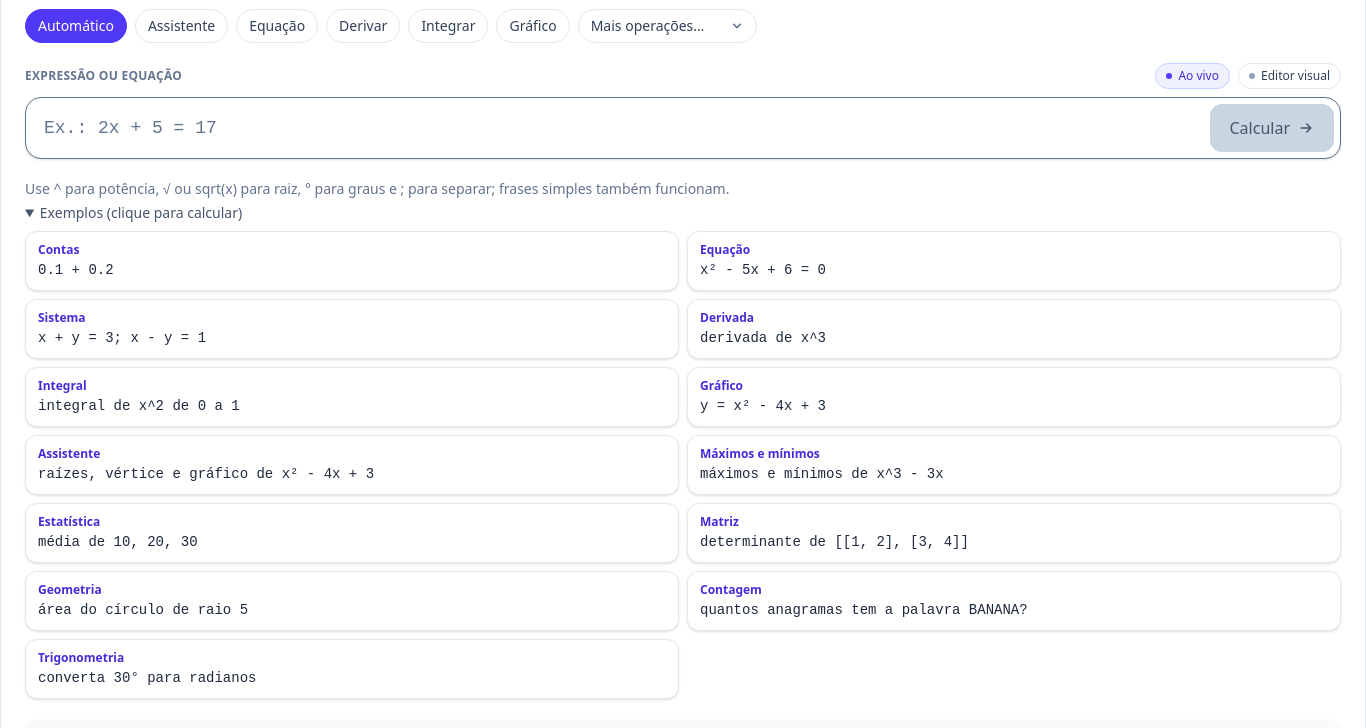
Scenario: Calculator › replaces the previous result with the new one
Type "0.1 + 0.2" into the field labelled "Expressão ou equação" at point(617, 128), box top-left (32, 104), bottom-right (1202, 152)
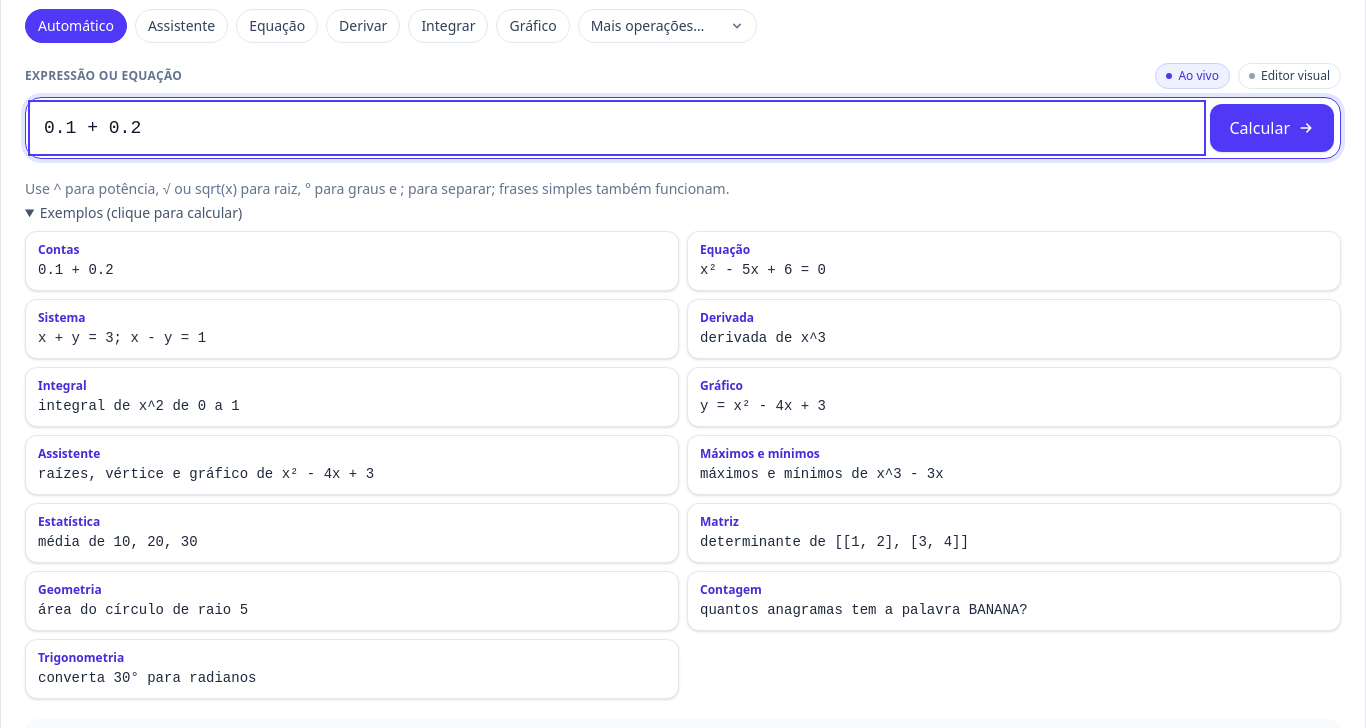
Click the button "Calcular" at point(1272, 128), box top-left (1210, 104), bottom-right (1334, 152)
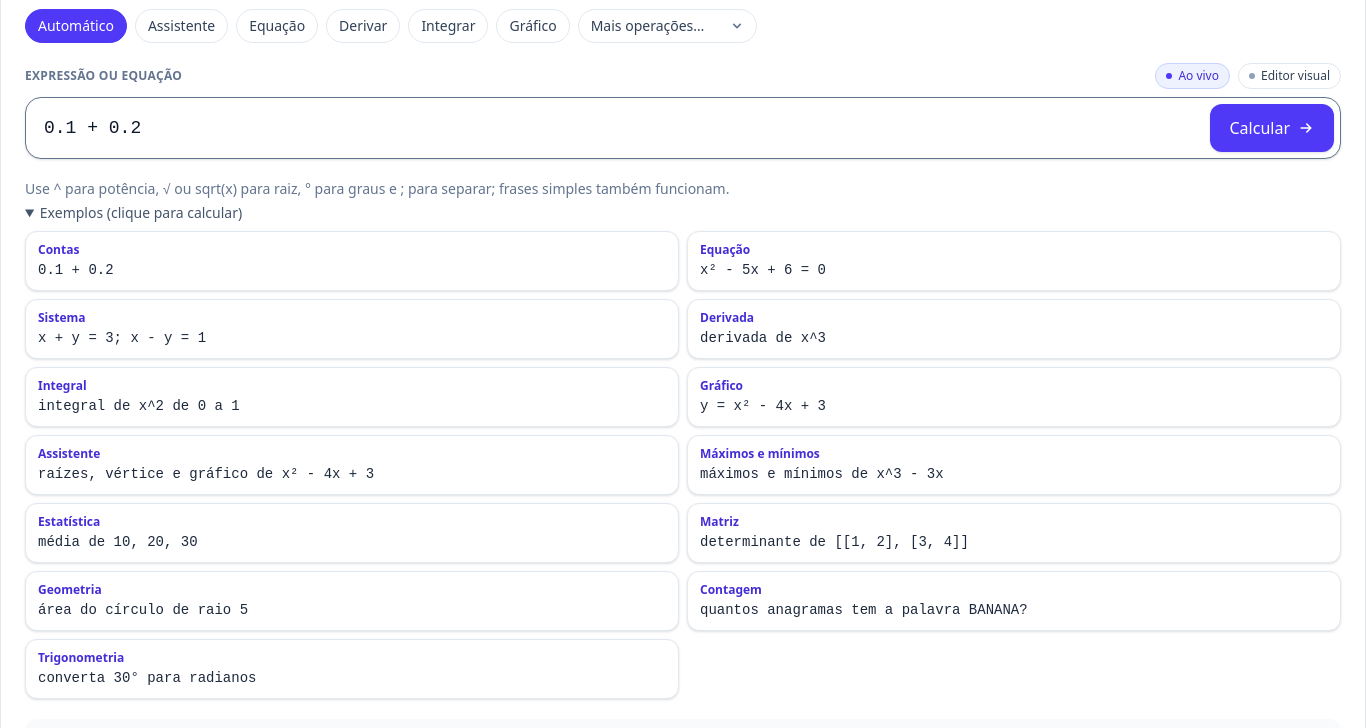
Replace the text in the field labelled "Expressão ou equação" with "10 + 1/0" at point(617, 128), box top-left (32, 104), bottom-right (1202, 152)
Then press Enter
(page scrolled)
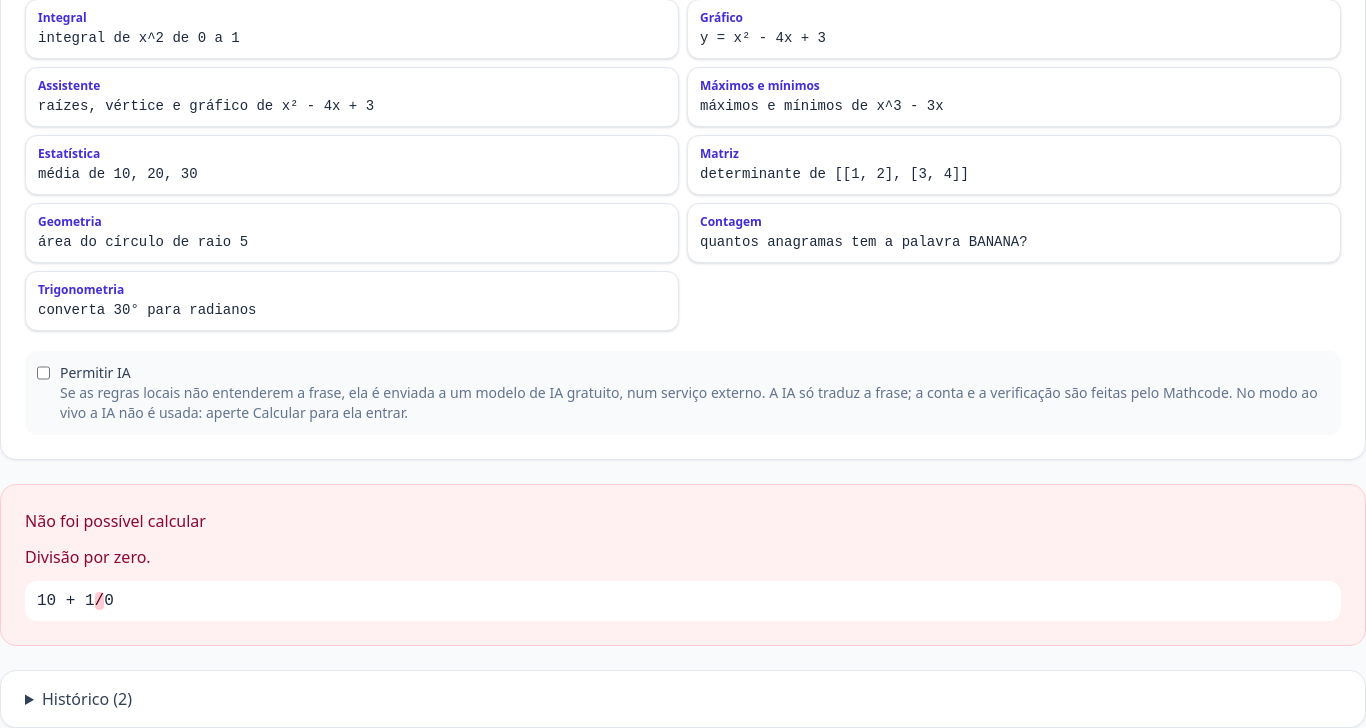
Expected: the element "Resultado" is not shown
Expected: the message "Não foi possível calcular Divisão por zero. 10 + 1/0" is shown, top-left (0, 484), bottom-right (1365, 646)
